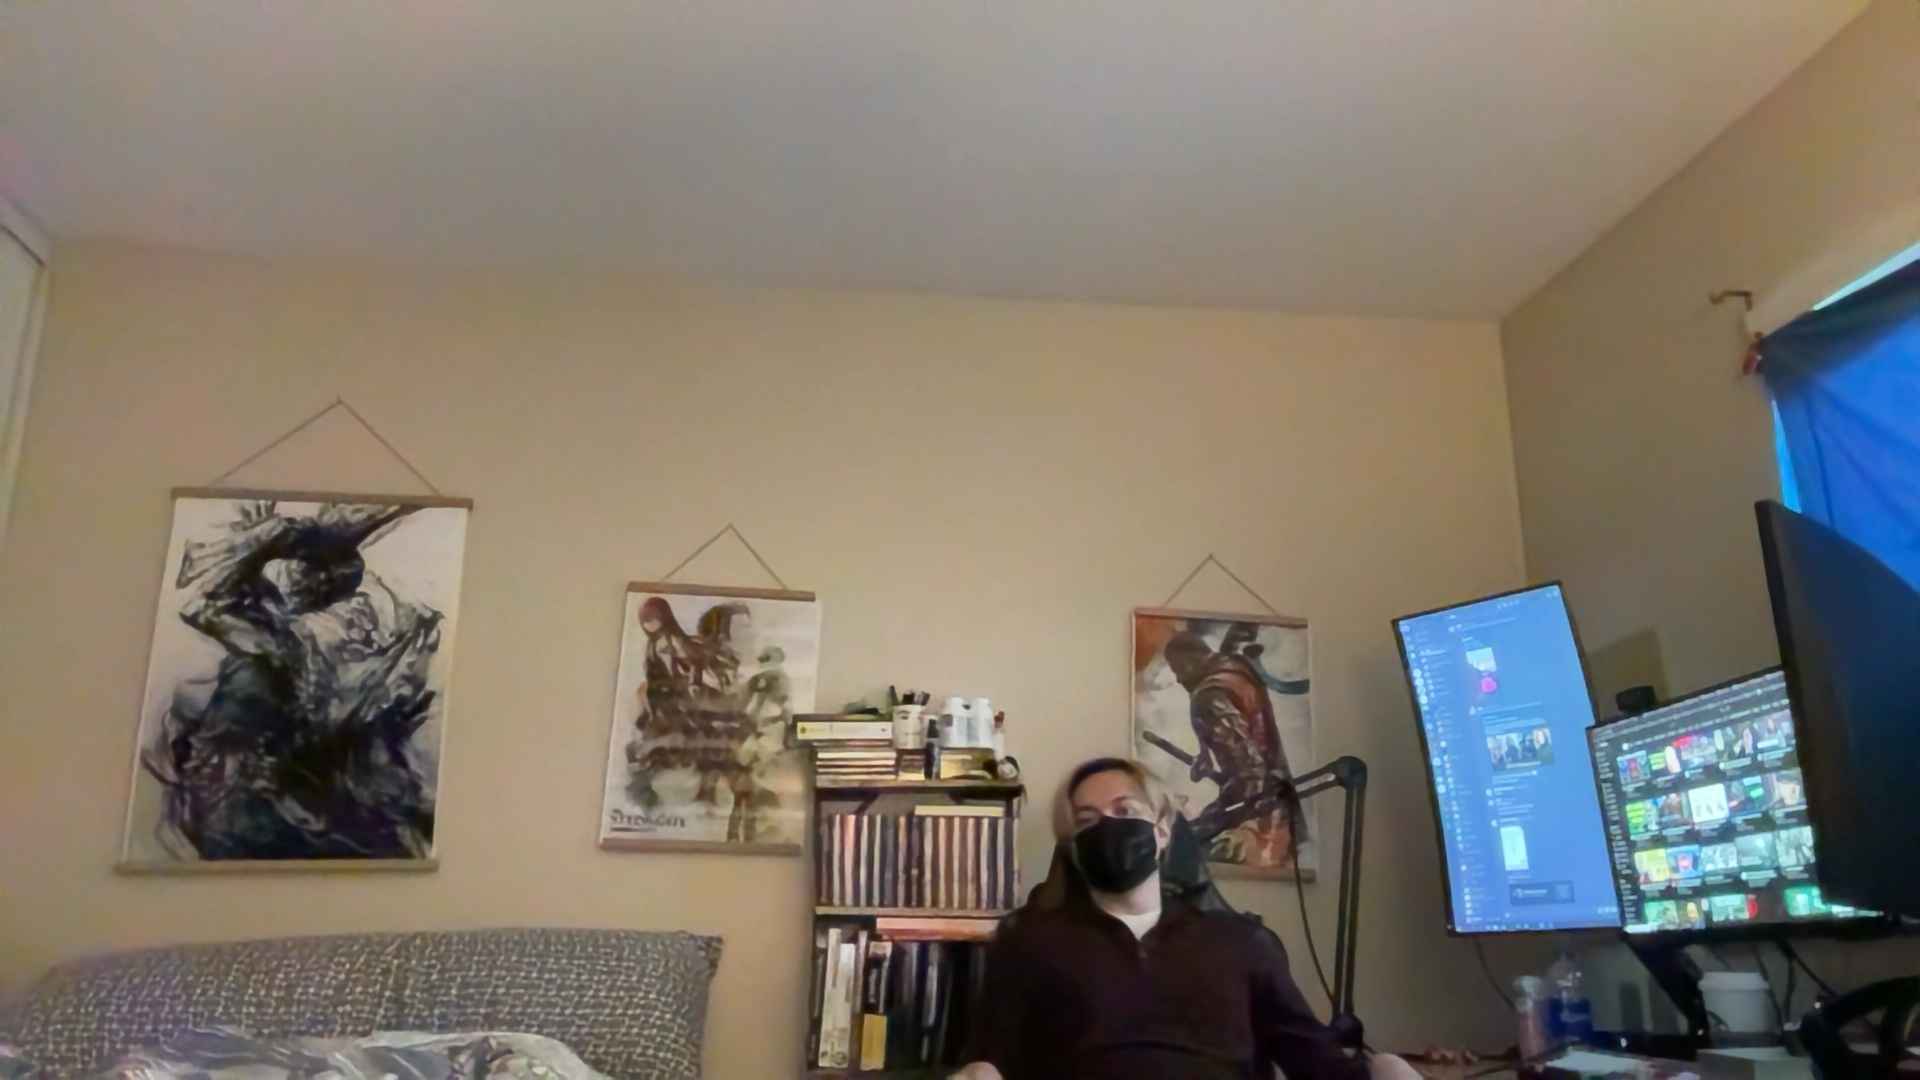masked: (1071, 789, 1160, 893)
